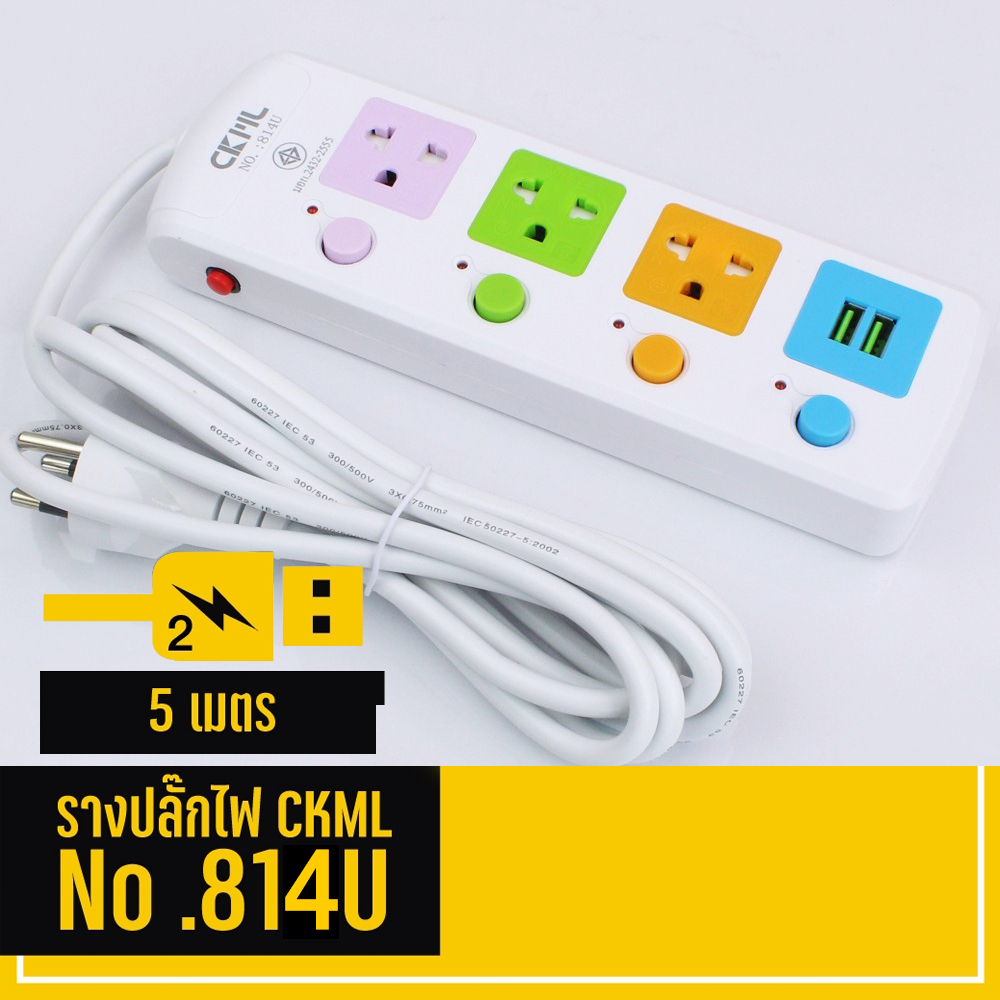Three_eye_plug: (134, 41, 993, 569)
